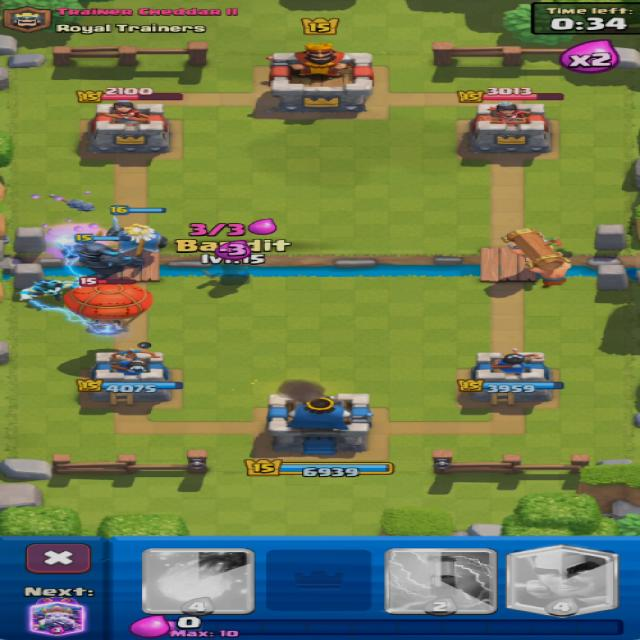Enemy-Balloon: (64, 280, 152, 334)
Enemy-KingTower: (269, 44, 372, 113)
Enemy-PrincessTower: (87, 100, 169, 154), (470, 102, 549, 154)
